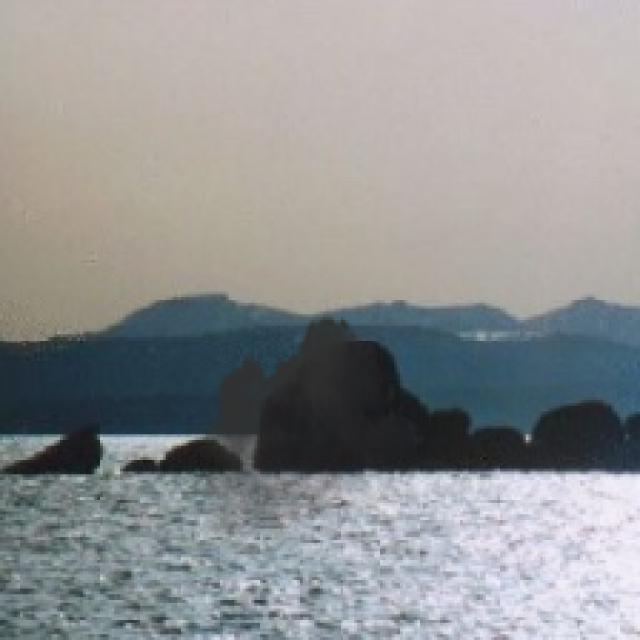smoke: (197, 306, 429, 557)
